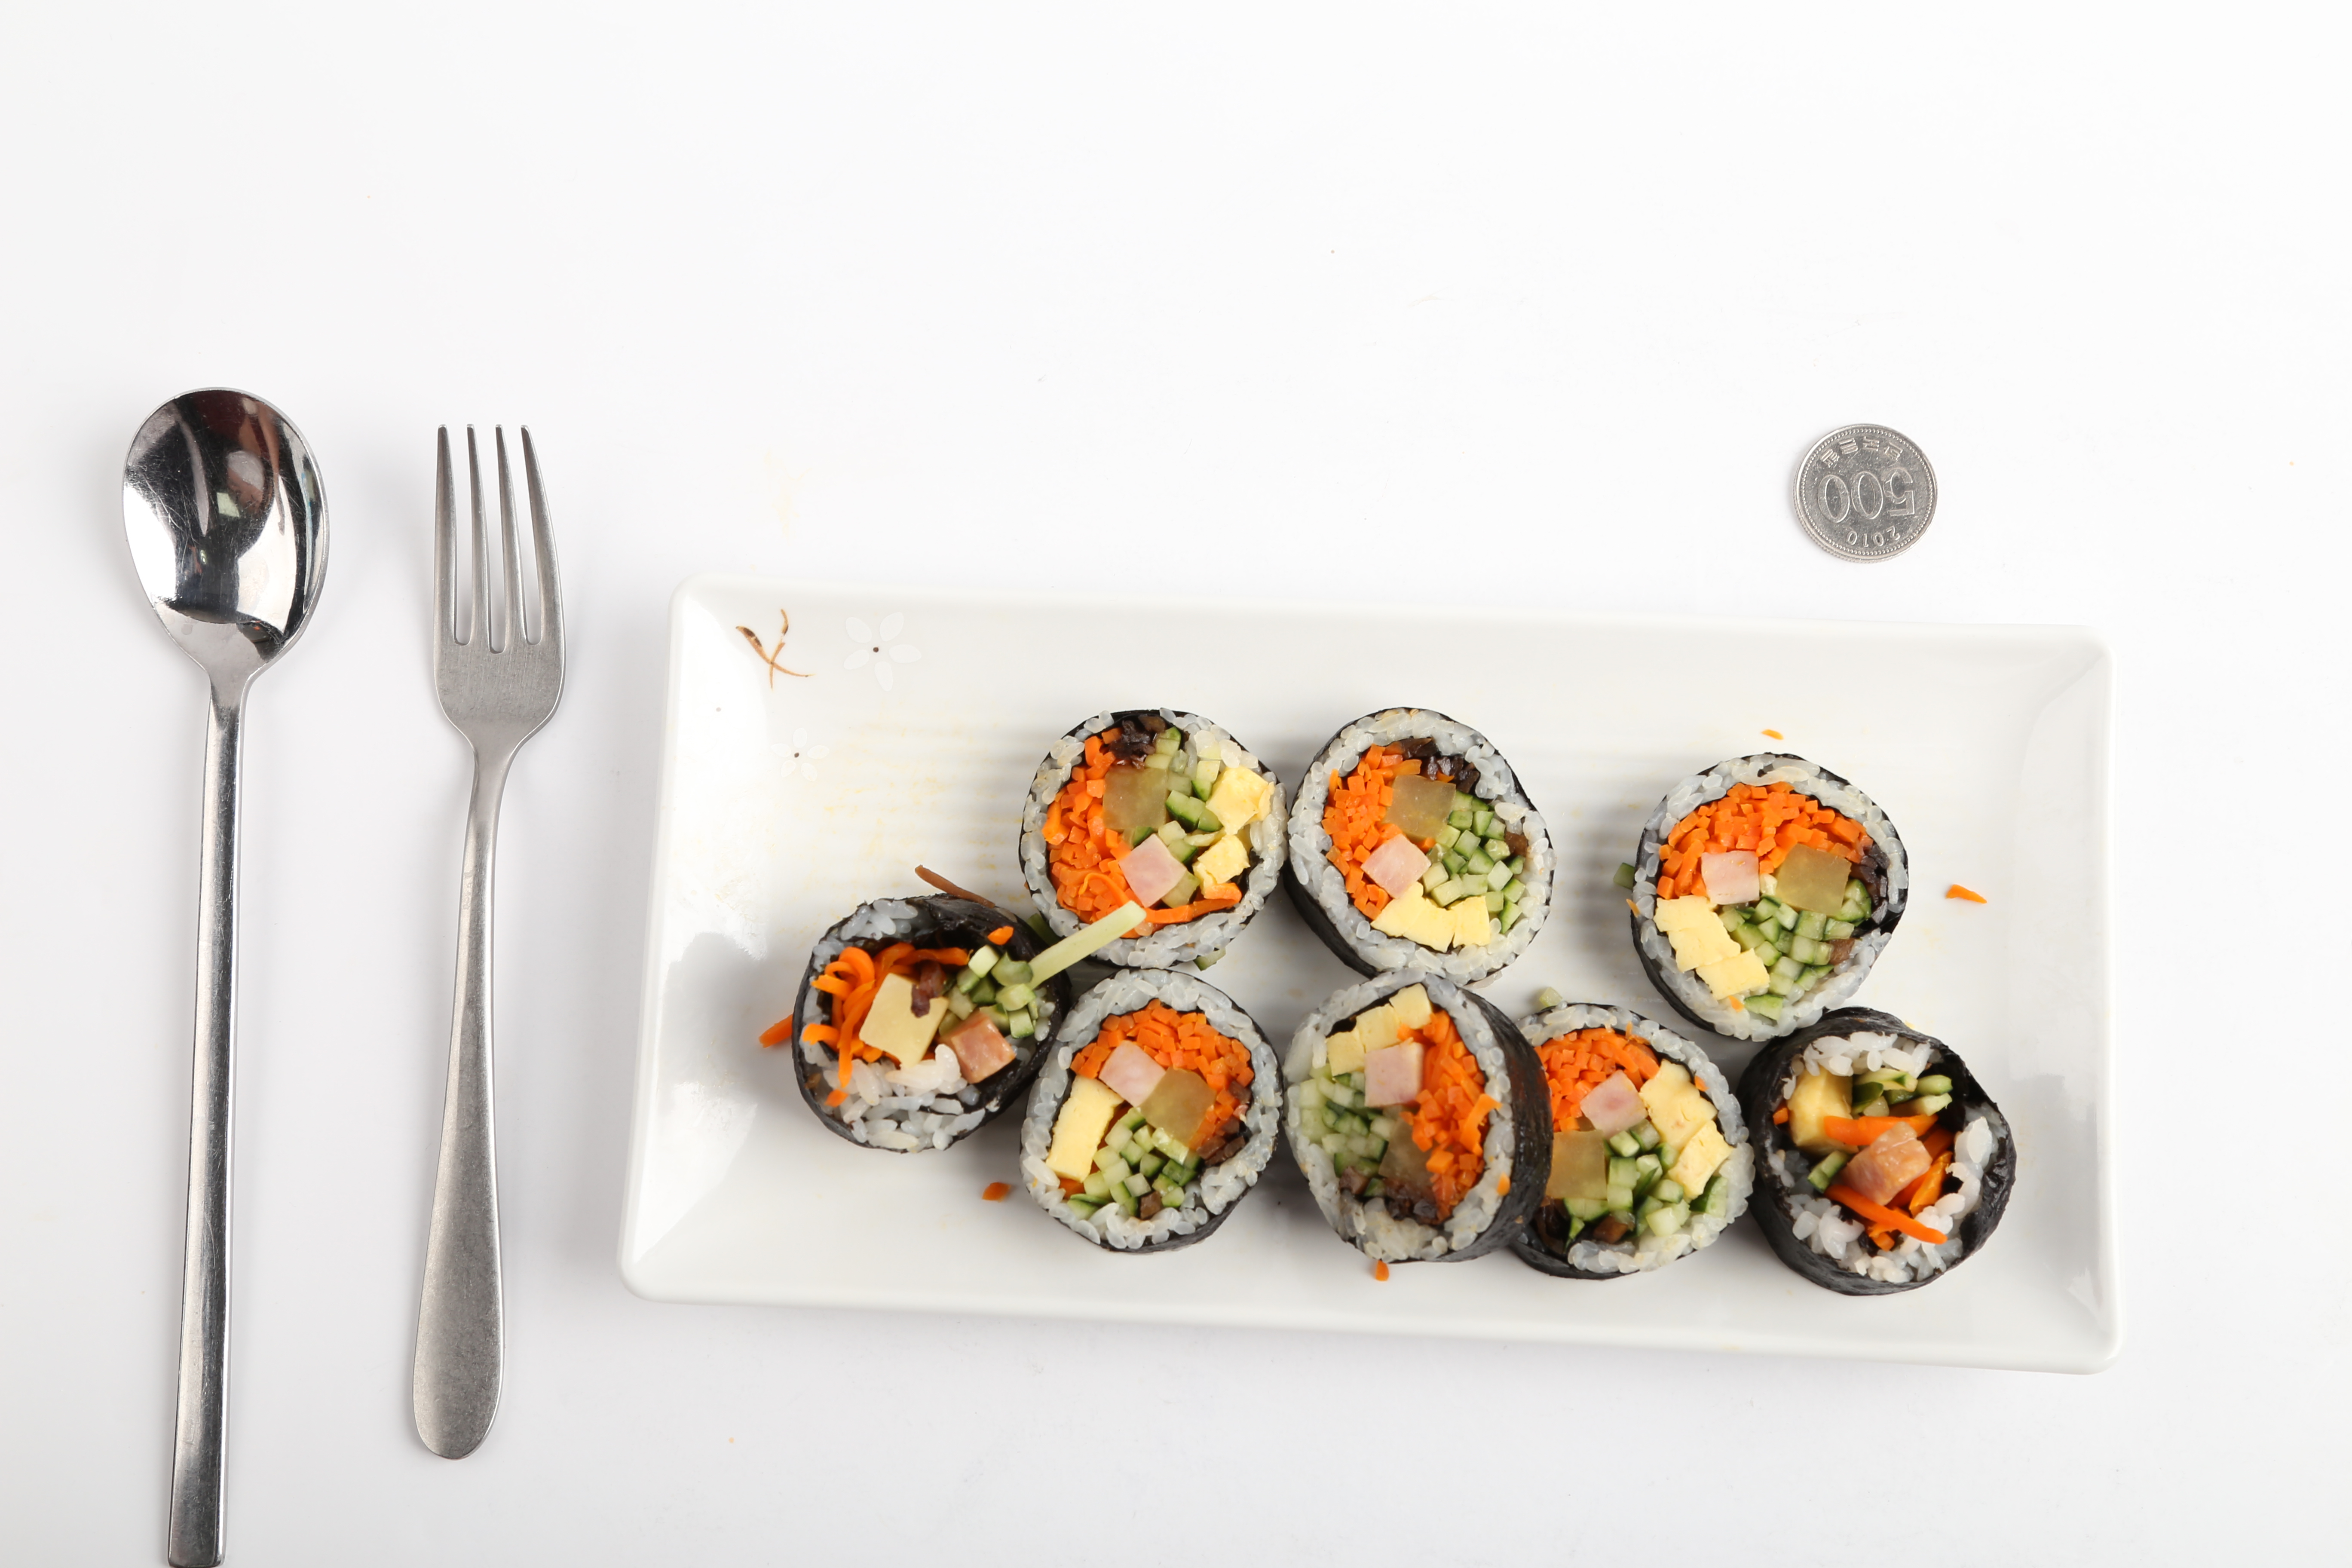dish: (614, 577, 2123, 1374)
ref_coin: (1787, 413, 1941, 565)
ref_fork: (425, 418, 567, 782)
ref_spoon: (115, 387, 332, 742)
김밥: (784, 707, 2019, 1300)
